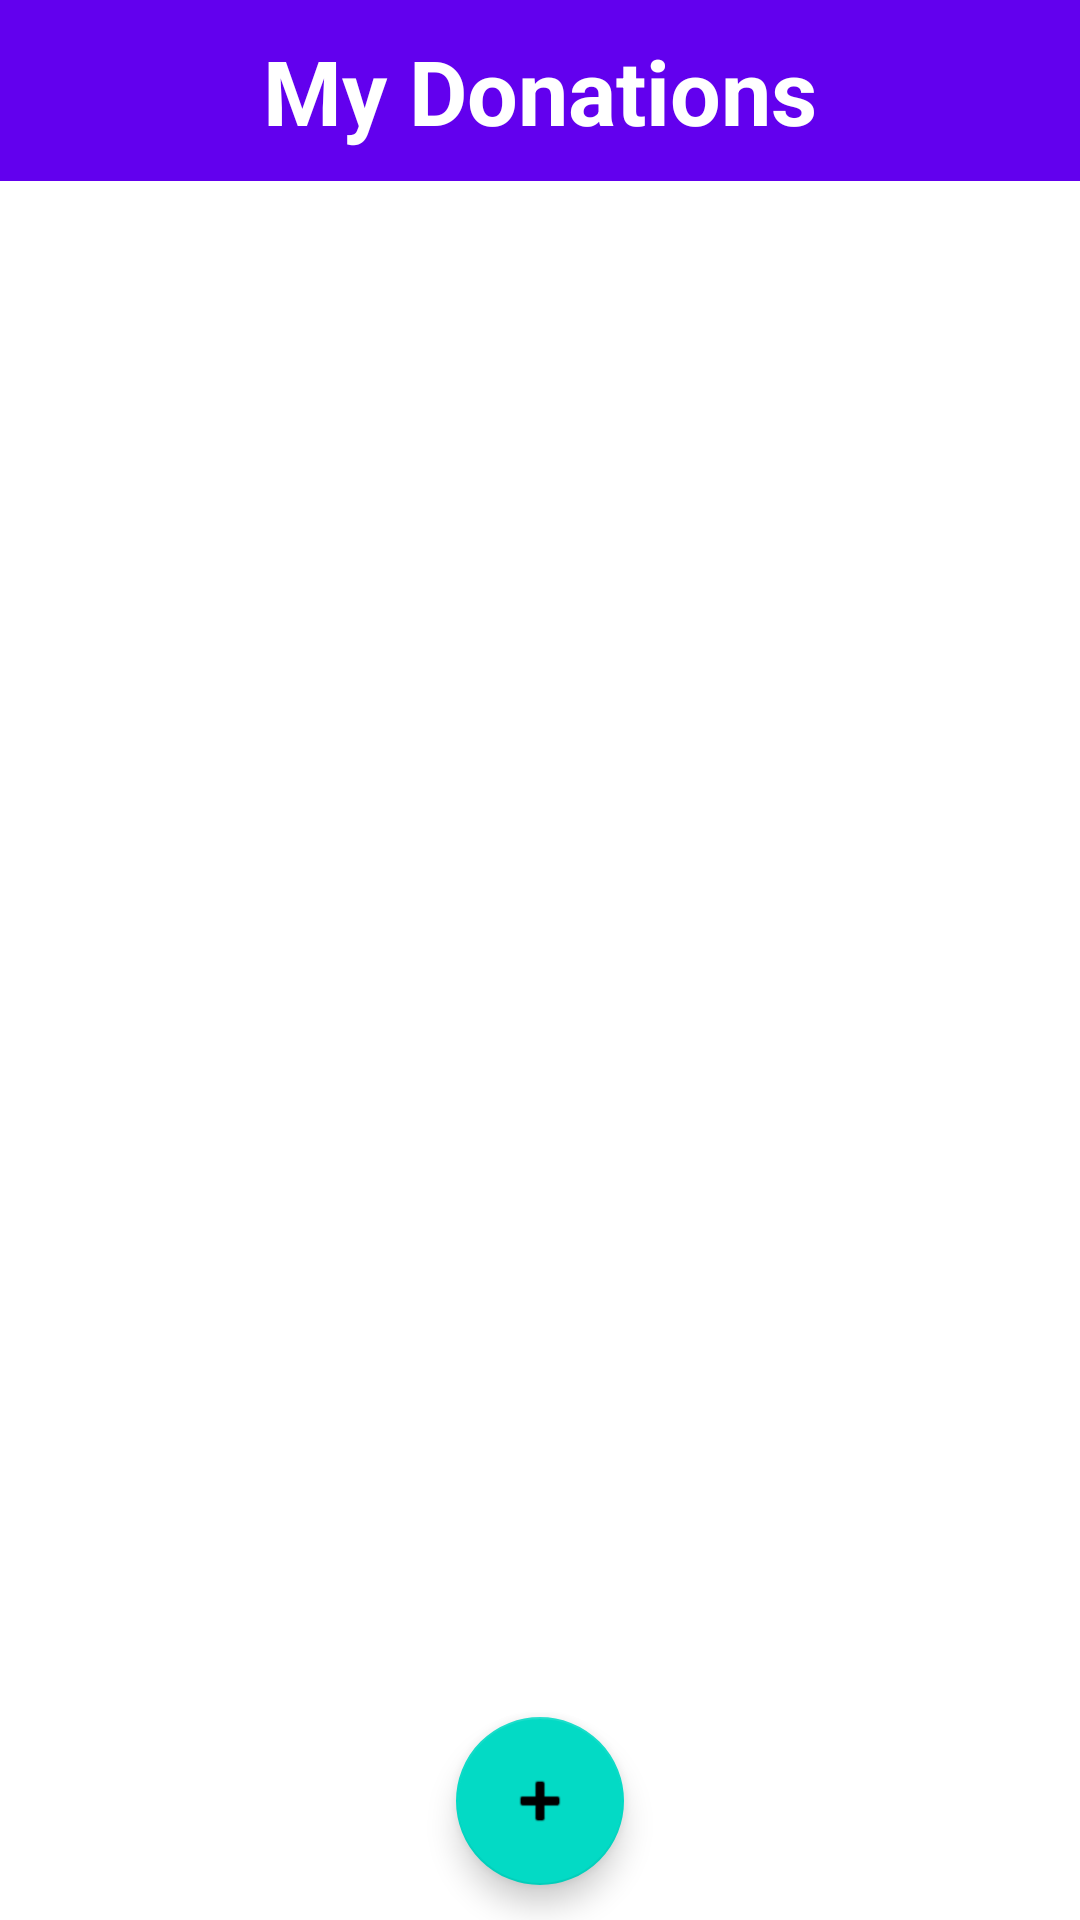

Point at icon controls on the screen. Image size 1080px×1920px, points as point (x, y).
New Donation: point (540, 1801)
